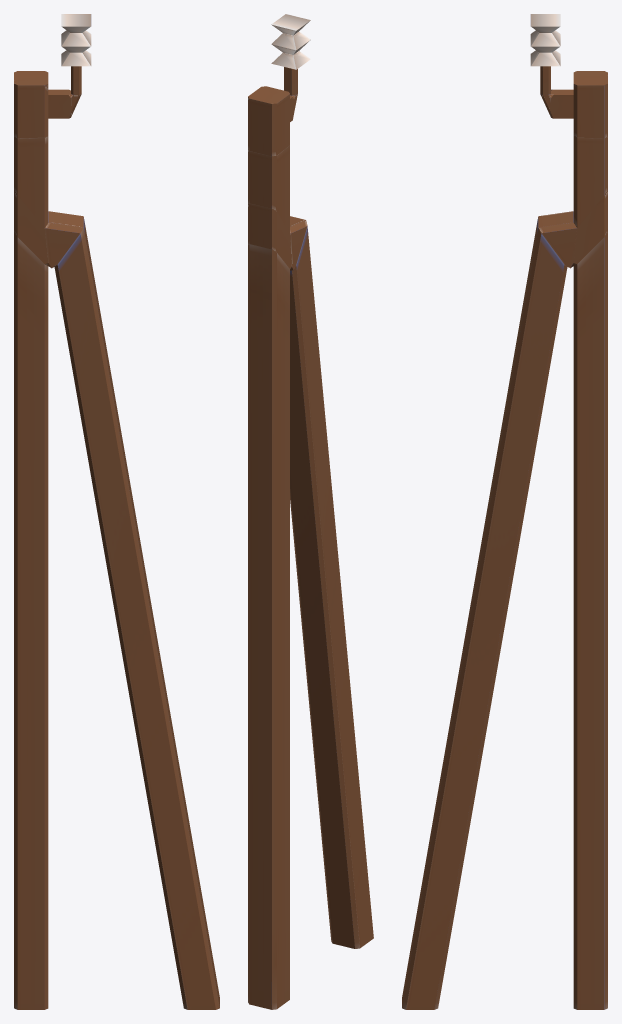
Rendered from electroline2.fbx.
3 renders of one model, left to right at view 1: azimuth 90°, elevation 25°; view 2: azimuth 150°, elevation 25°; view 3: azimuth 270°, elevation 25°, orthographic. The views are drawn at different scales.
Parts seen in each view (by area): view 1: ЛЭП_v1; view 2: ЛЭП_v1; view 3: ЛЭП_v1.
Boxes of the visible parts, x1=… form: ЛЭП_v1: x1=14, y1=14, x2=219, y2=1009; ЛЭП_v1: x1=248, y1=14, x2=373, y2=1009; ЛЭП_v1: x1=402, y1=14, x2=607, y2=1009.
Size of the model in its own units: 38.57 by 1233 by 234.
